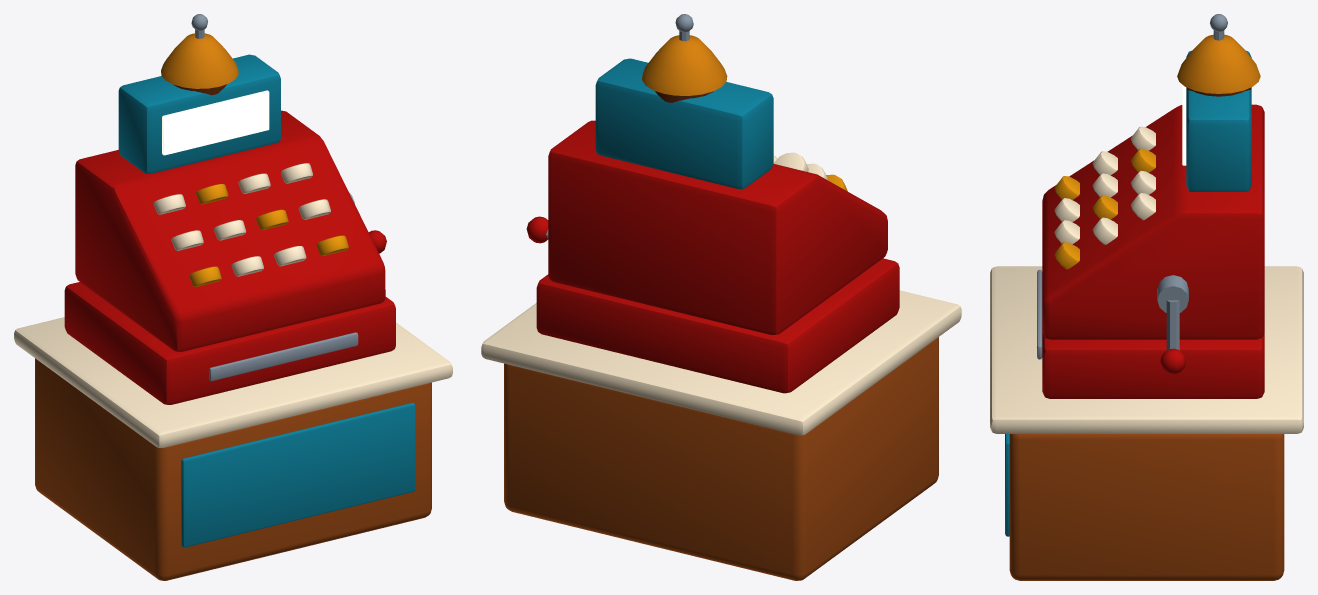
File: CashRegister.fbx
3 renders of one model, left to right at view 1: azimuth 30°, elevation 25°; view 2: azimuth 150°, elevation 25°; view 3: azimuth 270°, elevation 25°, orthographic. The views are drawn at different scales.
Visible parts, largest first — view 1: CashRegister; view 2: CashRegister; view 3: CashRegister.
Part boxes in pixels (<box>): CashRegister: <box>14,14,452,580</box>; CashRegister: <box>481,14,961,580</box>; CashRegister: <box>990,14,1303,580</box>.
Size of the model in its own units: 2.95 by 4.2 by 2.4.
